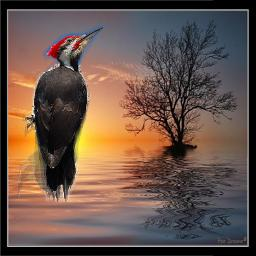Woodpecker: (17, 24, 110, 202)
